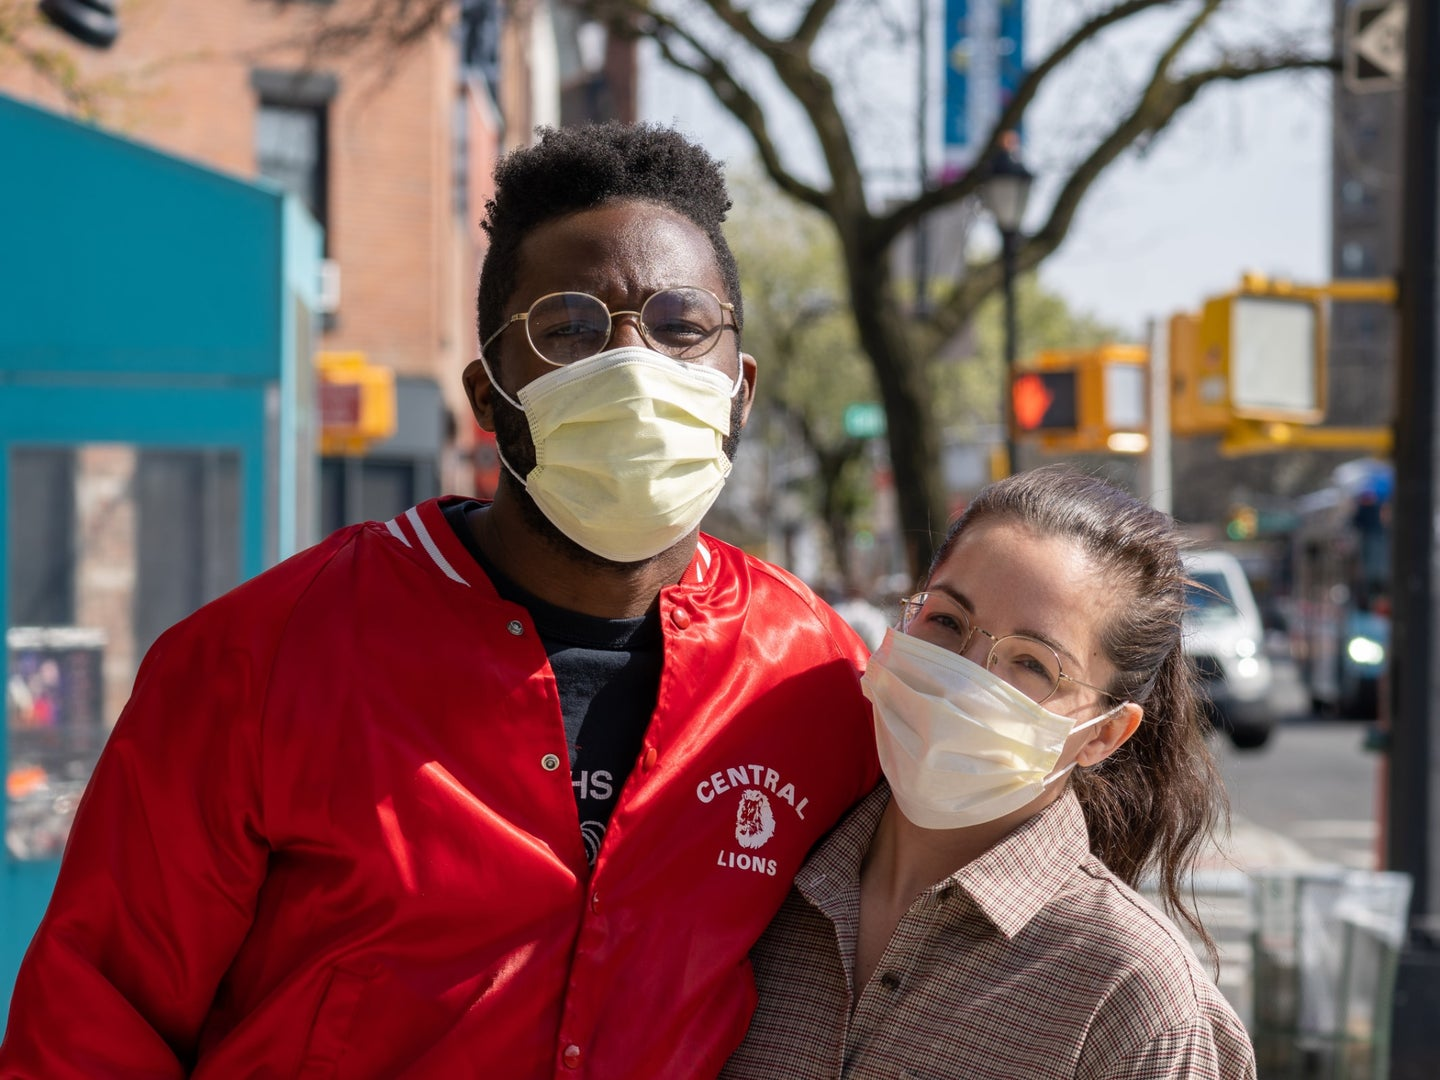with_mask: (515, 238, 730, 553), (880, 538, 1088, 824)
